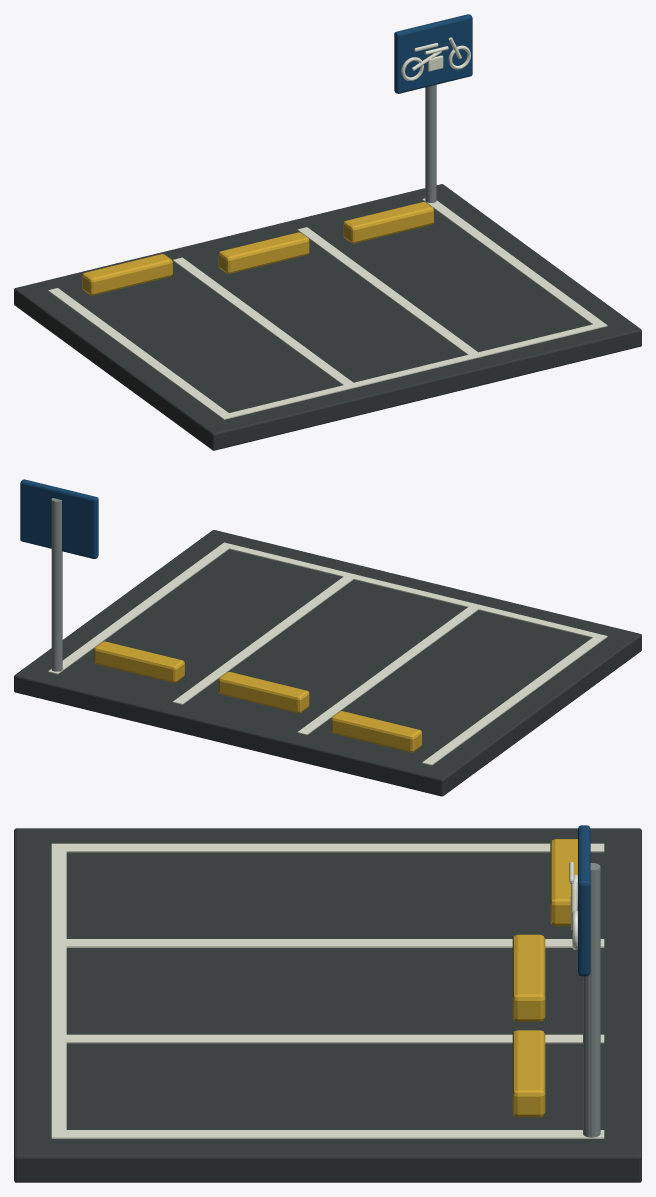
Rendered from source-edit.glb.
3 views of the same model, one above another, from view 1: azimuth 30°, elevation 25°; view 2: azimuth 150°, elevation 25°; view 3: azimuth 270°, elevation 25° (orthographic). The views are drawn at different scales.
Visible parts, largest first — view 1: SLAB_Asphalt, SIGN_Blue, MARK_Front, STOP_1, STOP_0, STOP_2, MARK_BayLine_0, MARK_BayLine_1, MARK_BayLine_2, MARK_BayLine_3, POST_Sign; view 2: SLAB_Asphalt, SIGN_Blue, STOP_1, STOP_2, STOP_0, MARK_Front, POST_Sign, MARK_BayLine_0, MARK_BayLine_1, MARK_BayLine_2, MARK_BayLine_3; view 3: SLAB_Asphalt, MARK_BayLine_0, MARK_BayLine_2, MARK_BayLine_3, MARK_BayLine_1, MARK_Front, POST_Sign, STOP_1, STOP_2, STOP_0, SIGN_Blue.
Boxes of the visible parts, <box> form: SLAB_Asphalt: <box>14,184,641,450</box>; SIGN_Blue: <box>394,14,472,93</box>; MARK_Front: <box>221,322,606,418</box>; STOP_1: <box>218,232,309,273</box>; STOP_0: <box>82,254,172,295</box>; STOP_2: <box>343,202,433,243</box>; MARK_BayLine_0: <box>48,288,233,419</box>; MARK_BayLine_1: <box>173,257,357,388</box>; MARK_BayLine_2: <box>297,227,482,357</box>; MARK_BayLine_3: <box>422,198,607,326</box>; POST_Sign: <box>425,84,436,202</box>; SLAB_Asphalt: <box>14,530,641,796</box>; SIGN_Blue: <box>20,479,98,558</box>; STOP_1: <box>218,672,309,713</box>; STOP_2: <box>94,641,184,682</box>; STOP_0: <box>331,711,421,752</box>; MARK_Front: <box>223,543,600,637</box>; POST_Sign: <box>51,498,62,671</box>; MARK_BayLine_0: <box>422,634,607,765</box>; MARK_BayLine_1: <box>297,603,482,734</box>; MARK_BayLine_2: <box>173,573,357,704</box>; MARK_BayLine_3: <box>48,542,233,674</box>; SLAB_Asphalt: <box>14,828,641,1182</box>; MARK_BayLine_0: <box>51,843,604,852</box>; MARK_BayLine_2: <box>51,1034,604,1043</box>; MARK_BayLine_3: <box>51,1130,604,1138</box>; MARK_BayLine_1: <box>51,939,604,947</box>; MARK_Front: <box>51,844,66,1129</box>; POST_Sign: <box>583,863,600,1137</box>; STOP_1: <box>512,934,545,1021</box>; STOP_2: <box>512,1030,545,1117</box>; STOP_0: <box>550,839,577,926</box>; SIGN_Blue: <box>578,825,590,976</box>.
Bounding box in the file's own units: 3.17 × 1.36 × 2.5.
